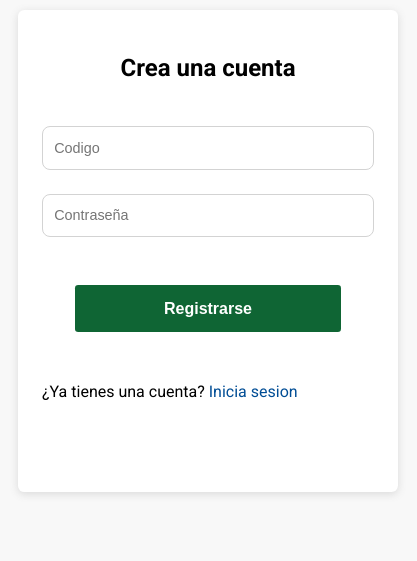
Test: Register Page Tests › Should display Error message for too short password length
Type "pass" into the password field with placeholder "Contraseña" at (208, 215), box [42, 194, 374, 237]
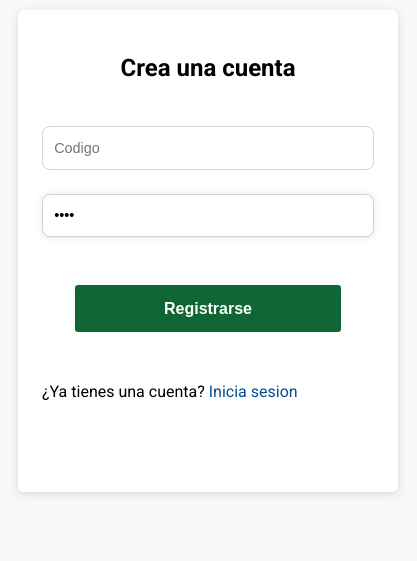
Click the button "Registrarse" at (208, 309), box [75, 285, 341, 332]
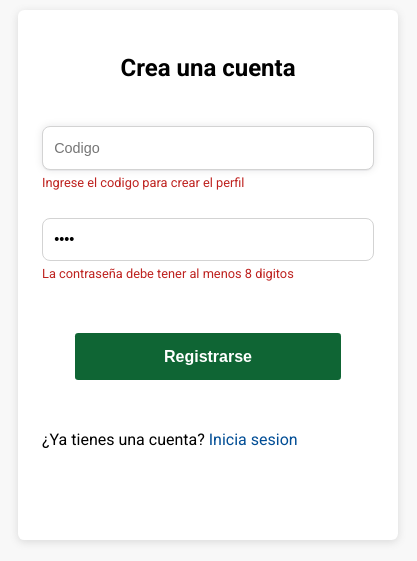
Check: the text "La contraseña debe tener al menos 8 digitos" is shown, box [42, 266, 294, 281]
